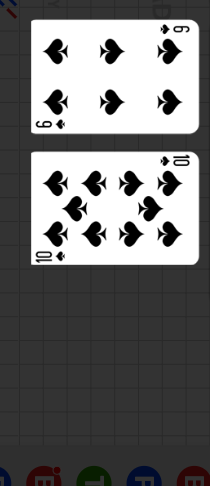10S: (34, 249, 68, 264)
6S: (157, 23, 191, 36)
